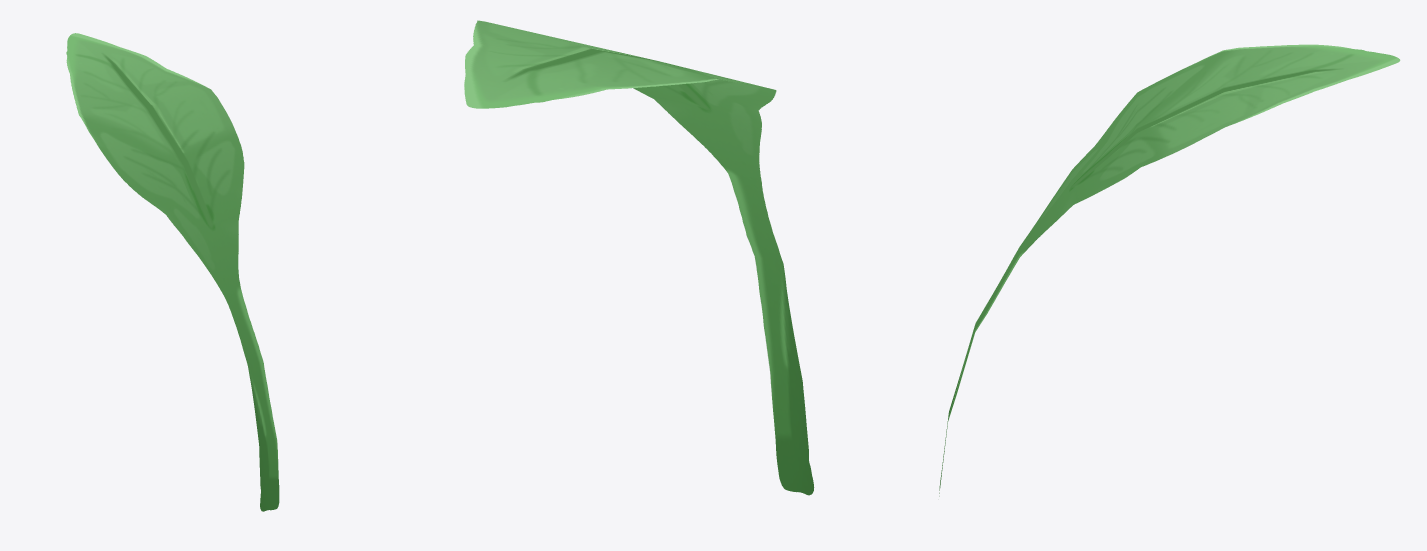
File: HojaP_3.fbx
3 views of the same model, side by side, from view 1: azimuth 30°, elevation 25°; view 2: azimuth 150°, elevation 25°; view 3: azimuth 270°, elevation 25° (orthographic). The views are drawn at different scales.
Visible parts, largest first — view 1: HojaP_3; view 2: HojaP_3; view 3: HojaP_3.
Part boxes in pixels (<box>): HojaP_3: <box>66,33,279,511</box>; HojaP_3: <box>464,20,814,495</box>; HojaP_3: <box>939,44,1400,496</box>.
Size of the model in its own units: 58.47 by 135 by 127.
